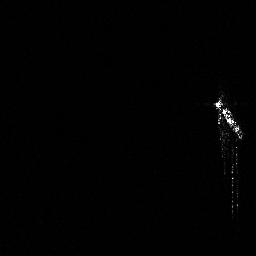ship: (211, 90, 247, 217)
